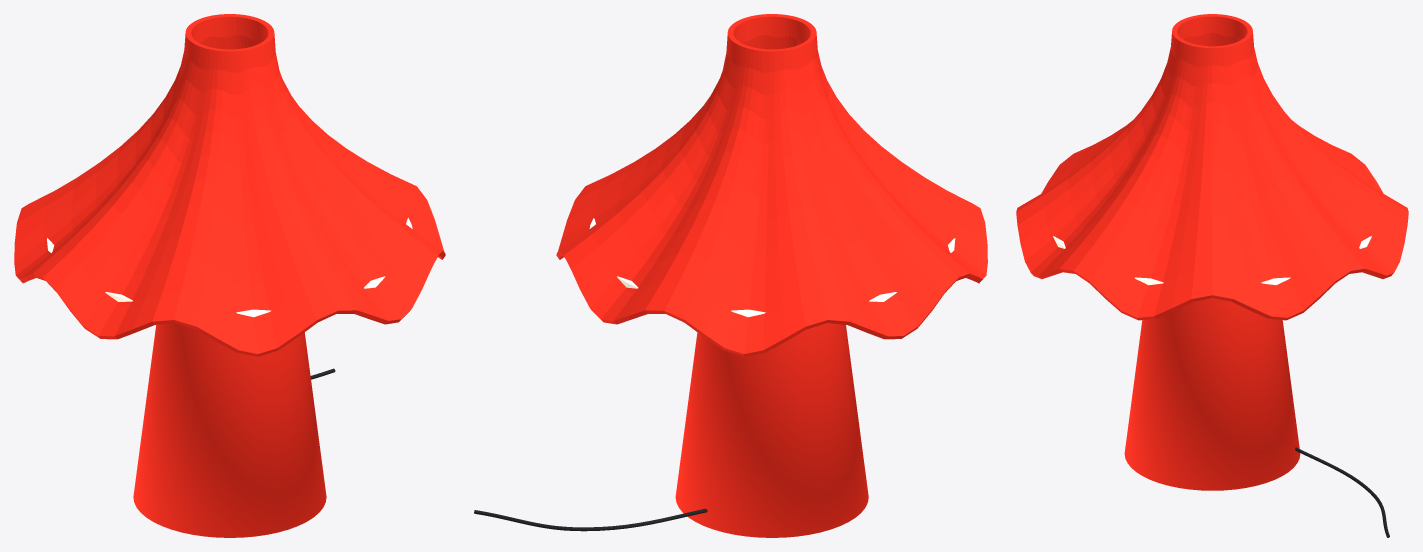
Rendered from ref08_02.glb.
The picture shows the model from 3 angles, left to right: view 1: azimuth 30°, elevation 25°; view 2: azimuth 150°, elevation 25°; view 3: azimuth 270°, elevation 25°; orthographic projection. The views are drawn at different scales.
Visible parts, largest first — view 1: ref08_02; view 2: ref08_02; view 3: ref08_02.
Part boxes in pixels (box(x1,y1,x2,y2)): ref08_02: box(14, 14, 445, 537); ref08_02: box(474, 14, 987, 537); ref08_02: box(1016, 14, 1408, 537).
Bounding box in the file's own units: 0.4637 × 0.5304 × 0.4467.
